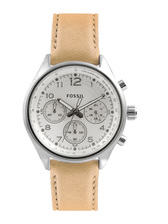watch: (22, 10, 140, 214)
